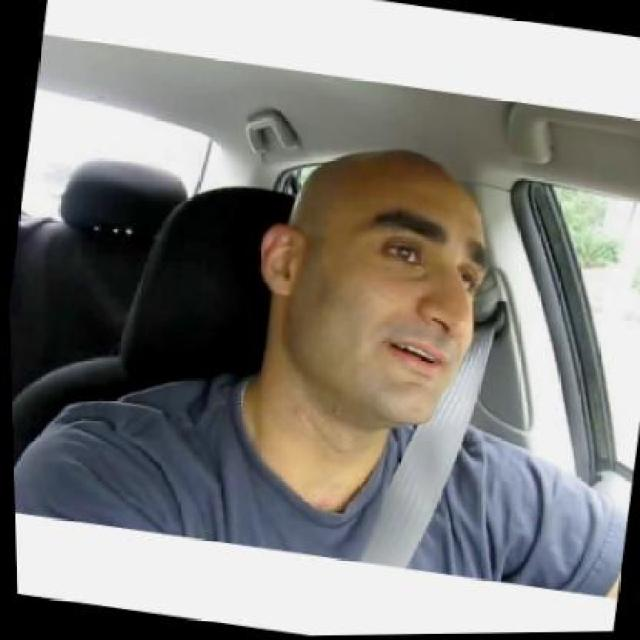attentif: (232, 127, 502, 435)
